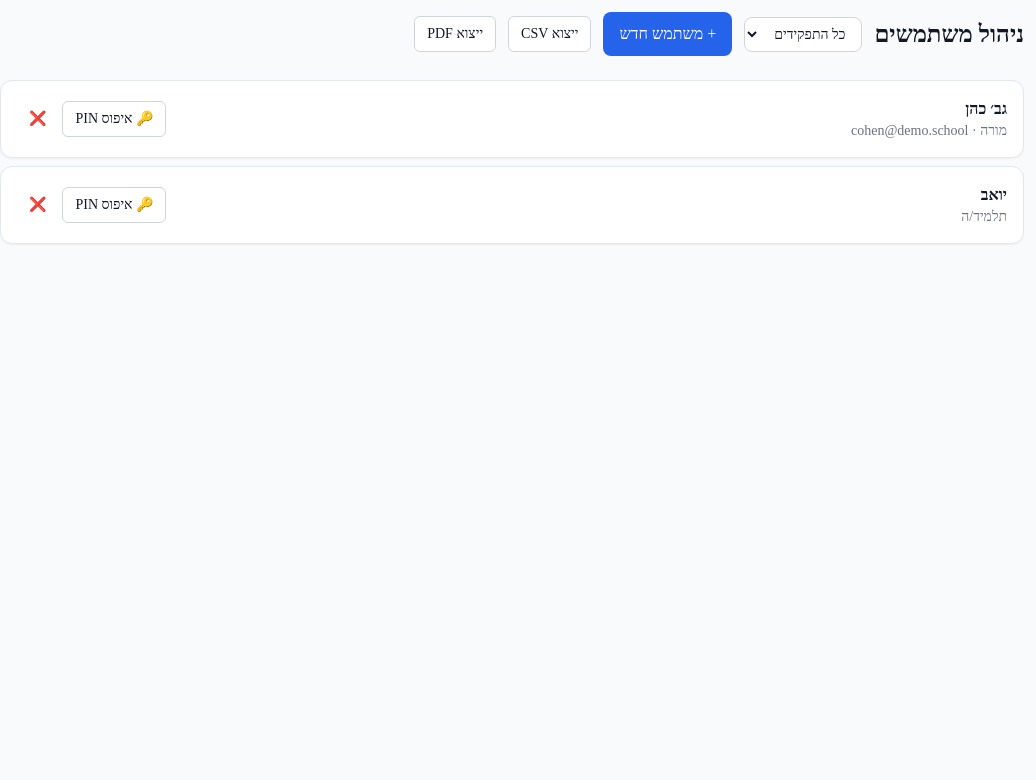
UsersManager › opens create form when clicking add
Click the button "+ משתמש חדש": click(668, 34) left=604, top=12, right=732, bottom=56
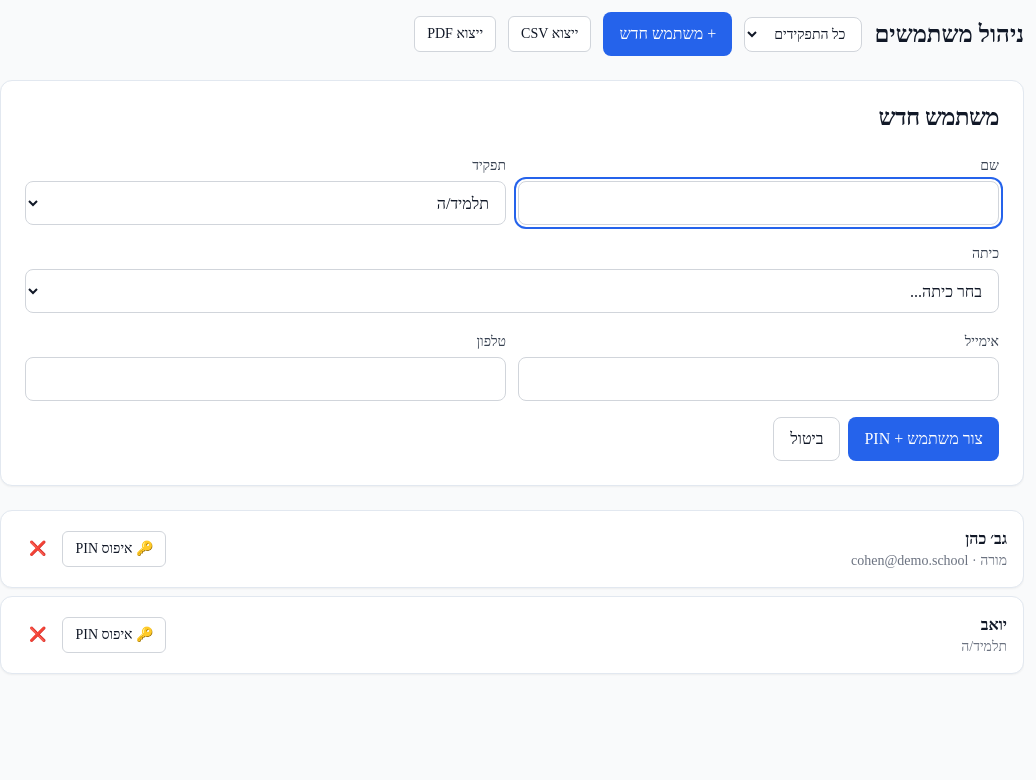
Check: the heading "משתמש חדש" is shown, box left=879, top=104, right=999, bottom=130
Check: the field labelled "שם" is shown, box left=518, top=181, right=999, bottom=225
Check: the dropdown labelled "תפקיד" is shown, box left=25, top=181, right=506, bottom=225
